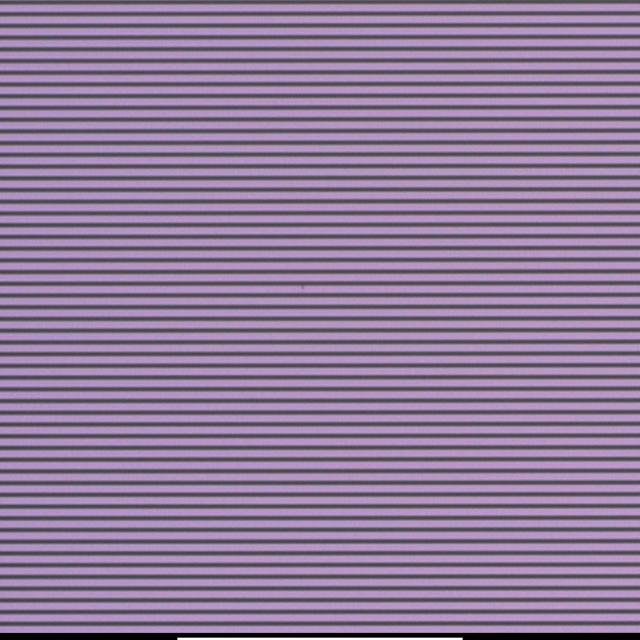nonvisual: (296, 280, 308, 294)
